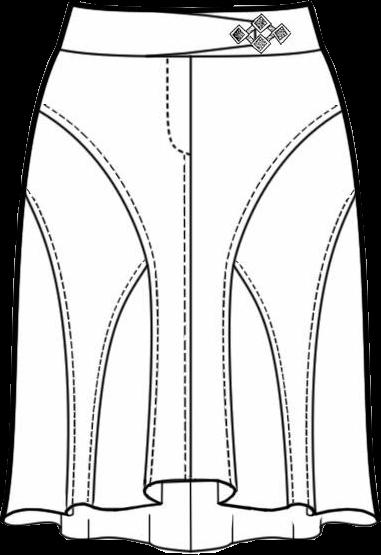Hemline: (2, 475, 380, 525)
Waistline: (224, 107, 345, 489), (35, 108, 156, 489), (309, 191, 360, 506), (23, 193, 70, 513), (89, 265, 149, 506), (235, 268, 293, 506), (52, 46, 326, 59), (68, 0, 309, 12)
